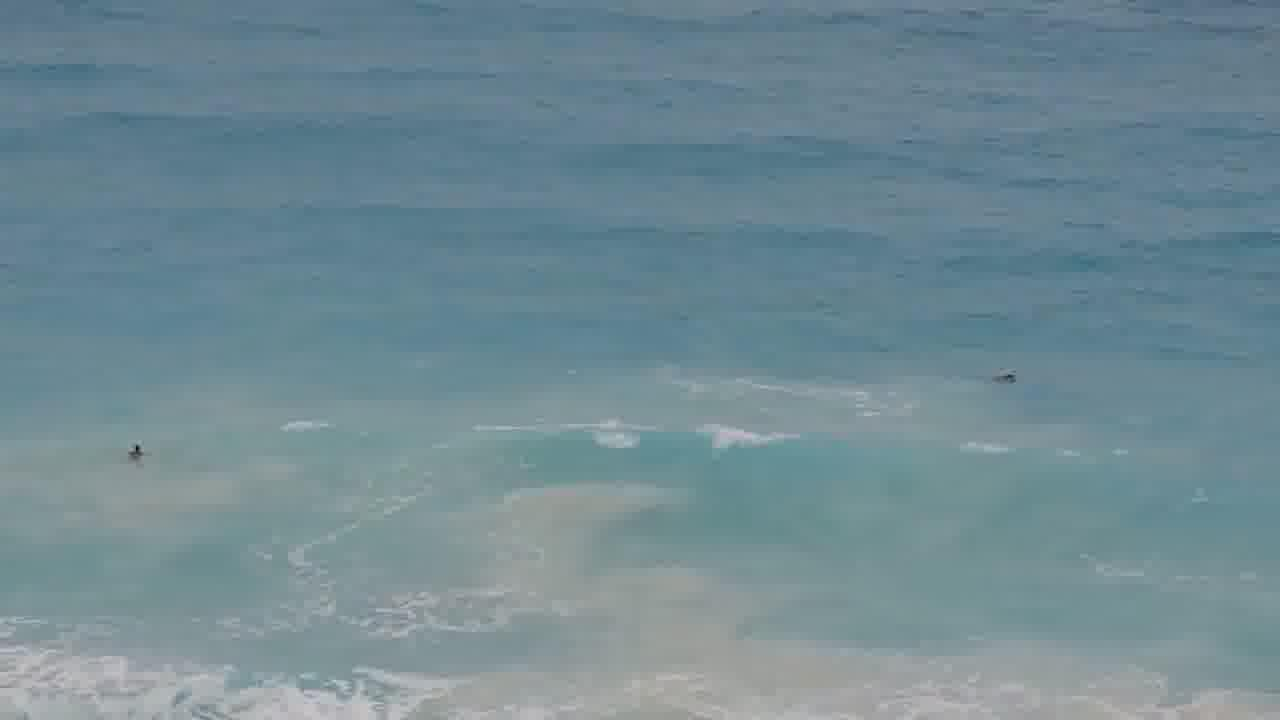swimmer: (984, 353, 1038, 398), (118, 430, 163, 471)
